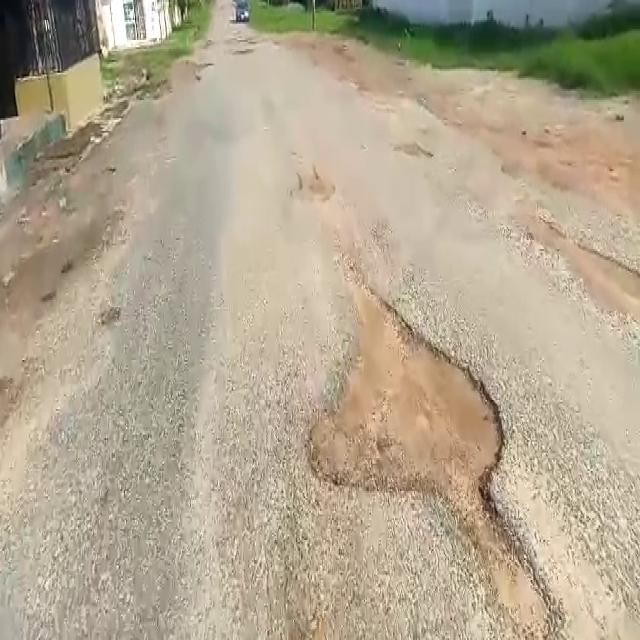Pothole: (302, 293, 512, 511), (501, 205, 640, 341), (394, 138, 434, 161)
